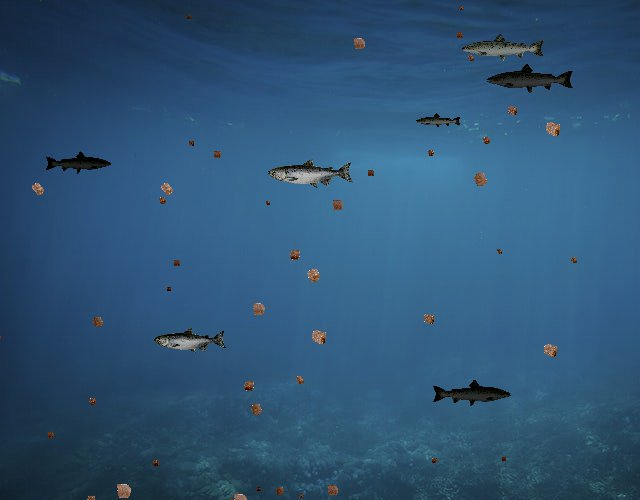Fish: (485, 62, 575, 94), (460, 32, 546, 63), (268, 158, 354, 189), (431, 378, 512, 407), (155, 327, 228, 354), (45, 151, 113, 175), (416, 112, 463, 129)
Pellet: (245, 296, 272, 323), (108, 476, 138, 500), (347, 31, 372, 56), (238, 375, 260, 397), (363, 166, 378, 180), (185, 137, 198, 150), (456, 2, 466, 12)
